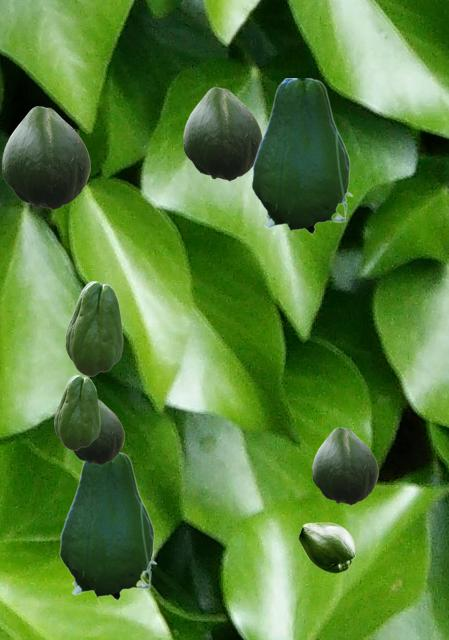sayote: (251, 78, 352, 236), (59, 452, 156, 602), (2, 106, 89, 209), (183, 87, 261, 180), (65, 281, 122, 375), (312, 427, 377, 504), (71, 399, 123, 464), (54, 375, 99, 449), (298, 522, 354, 572)
